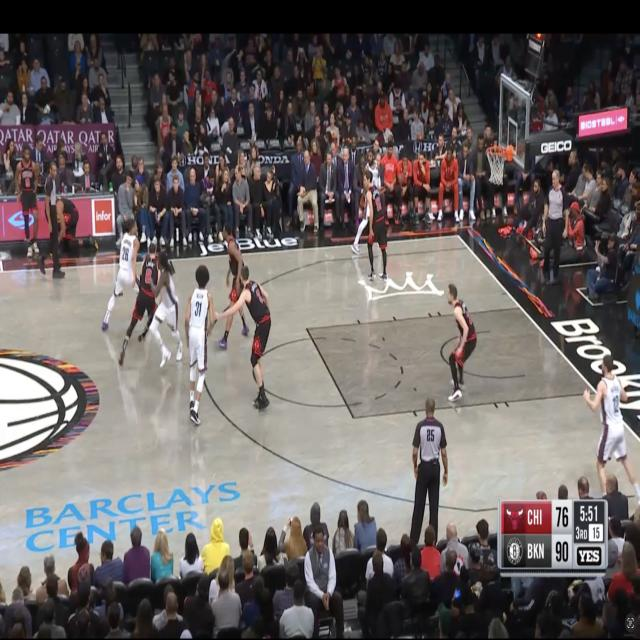no foul: (160, 225, 286, 440), (112, 215, 186, 388)
